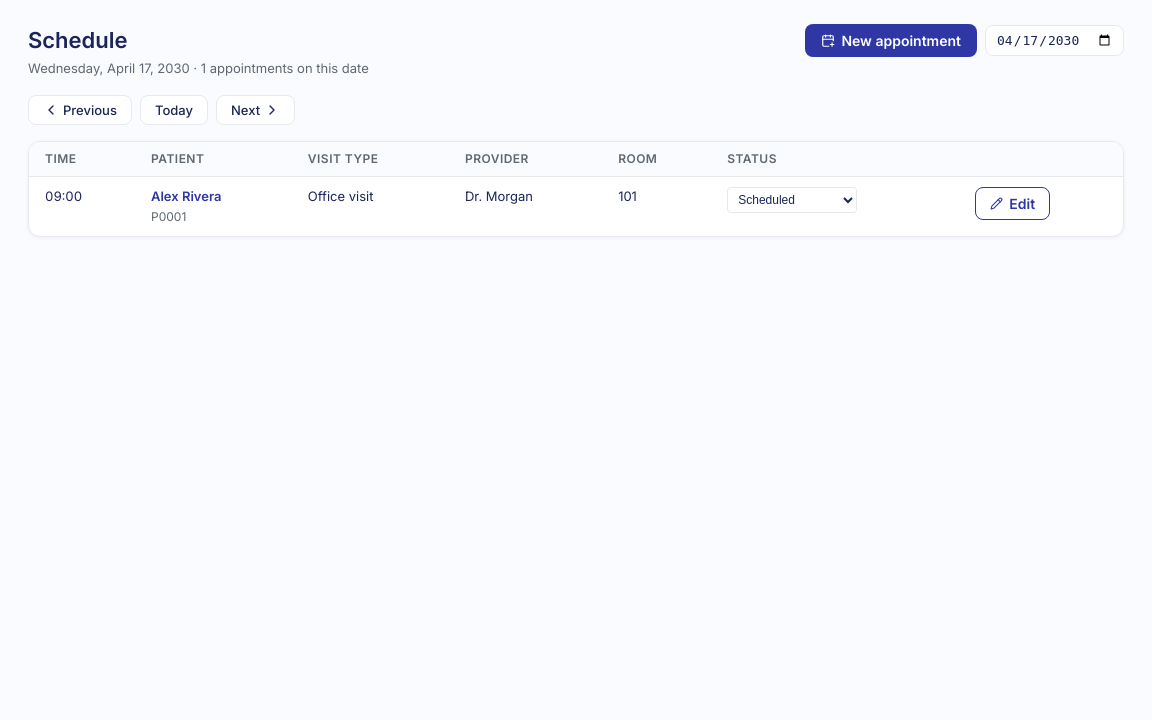
Test: ClinicianSchedule appointment editing › edits an appointment from its schedule row and refreshes the day
The width and height of the screenshot is (1152, 720).
Click the button with aria-label "Edit appointment for Alex Rivera at 09:00": (1013, 203) [975,186,1050,220]
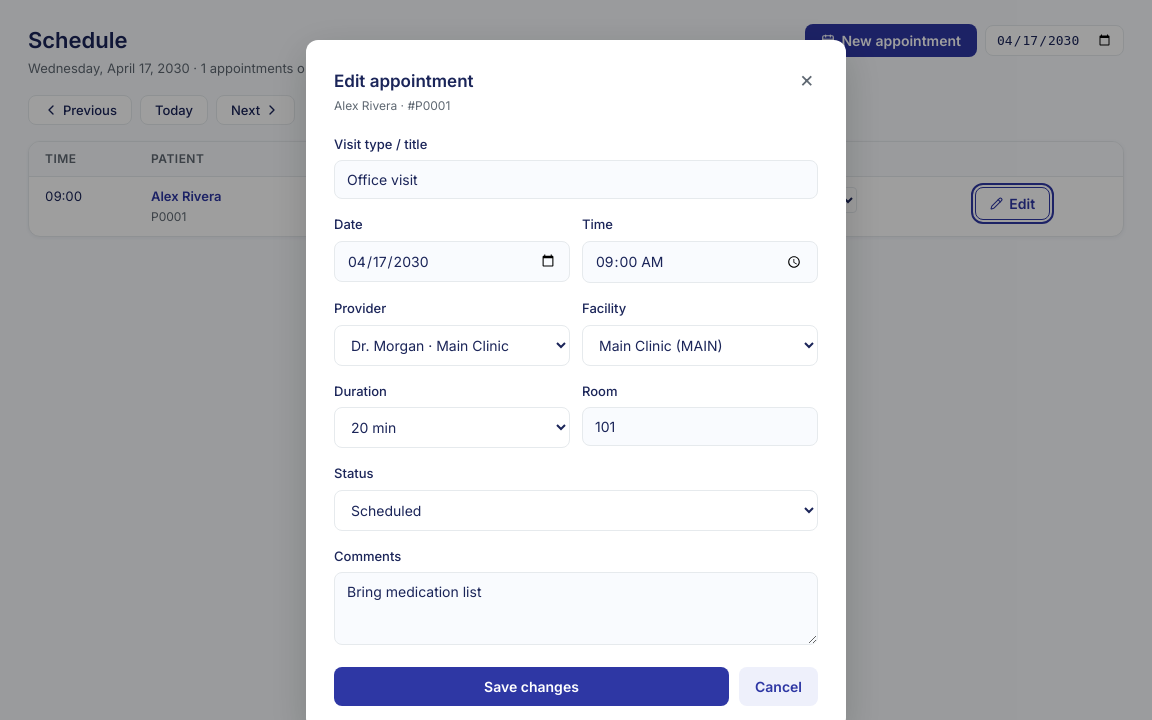
Replace the text in the field labelled "Visit type / title" with "Annual wellness visit": (576, 180) [334,160,818,199]
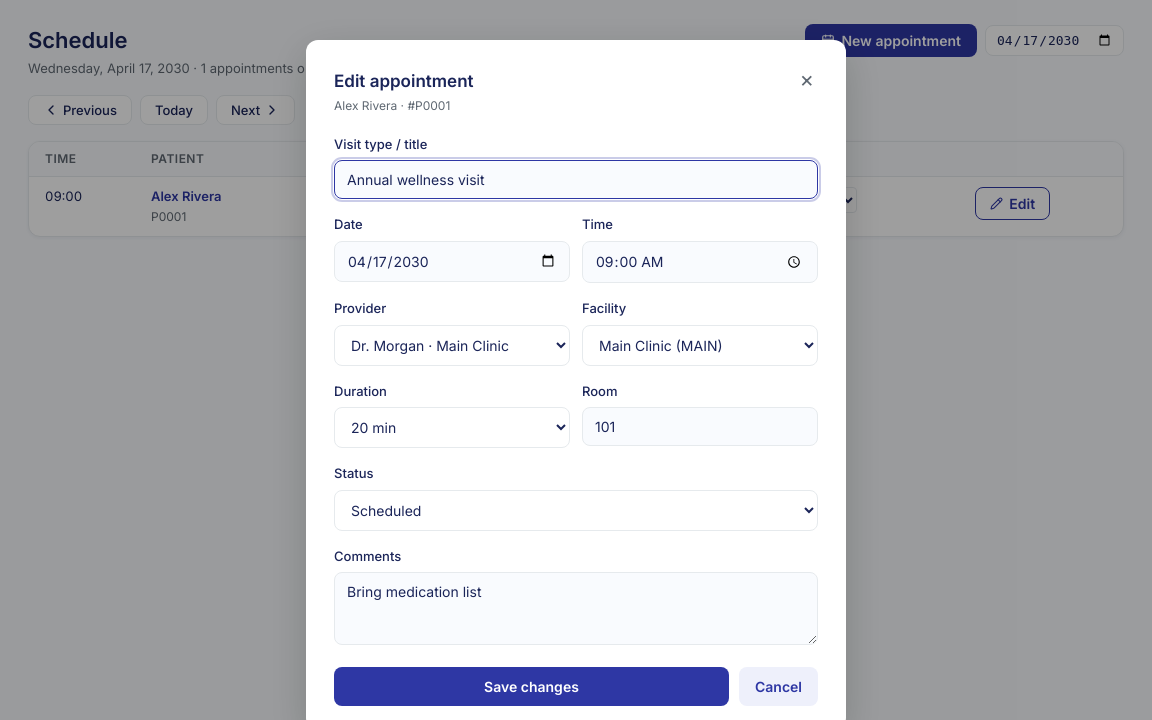
Replace the text in the field labelled "Room" with "204": (700, 427) [582,407,818,446]
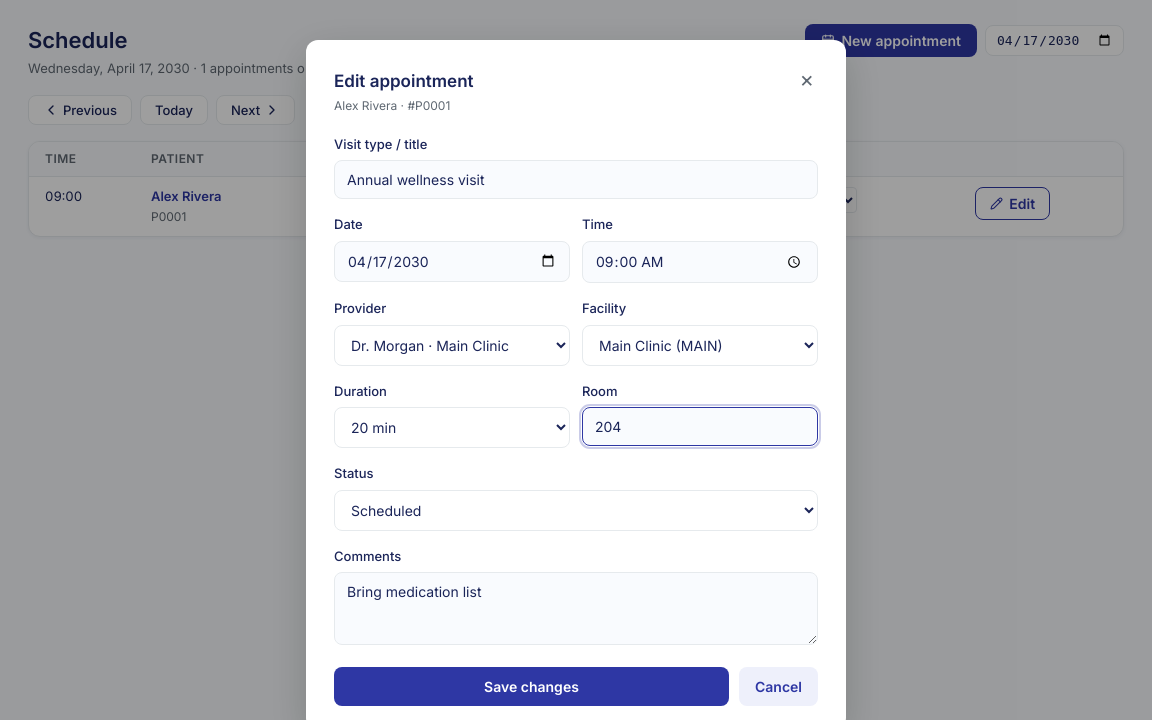
Click the button "Save changes": (532, 687) [334,667,729,706]
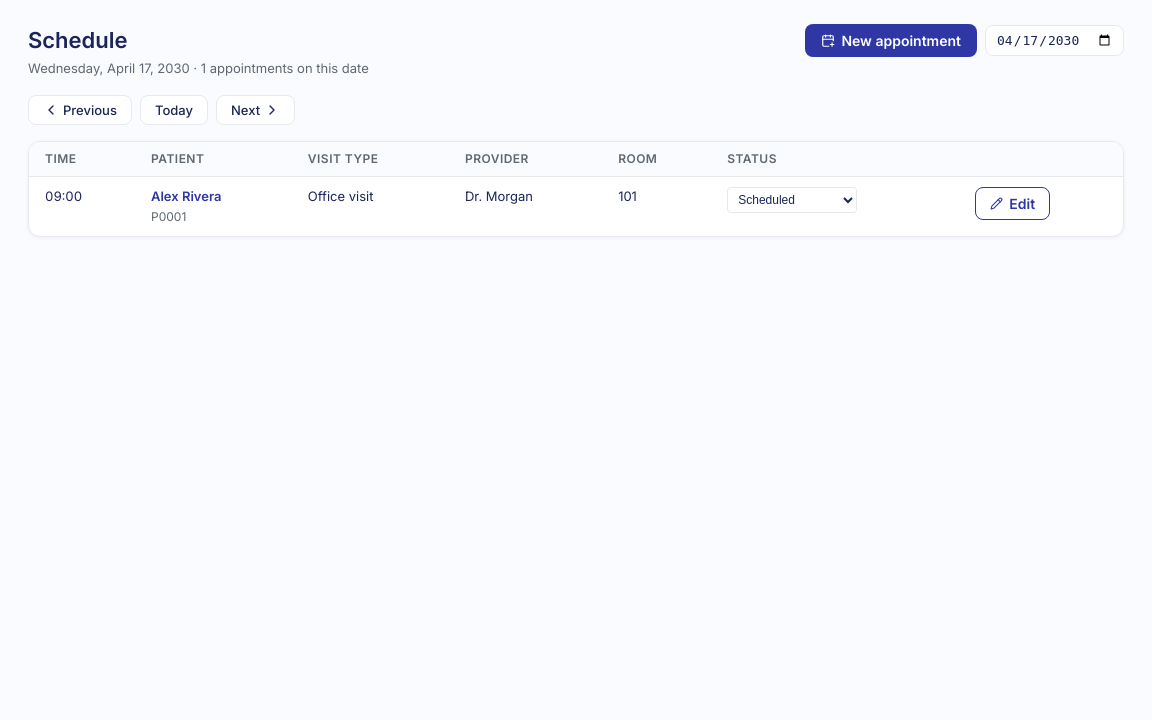
Now the heading "Edit appointment" is gone
